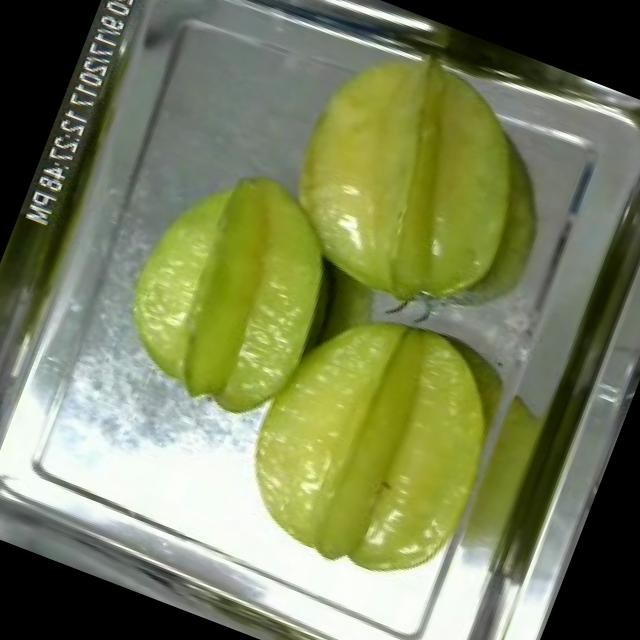fruit: (215, 270, 537, 610), (250, 13, 570, 345), (91, 130, 373, 442)
